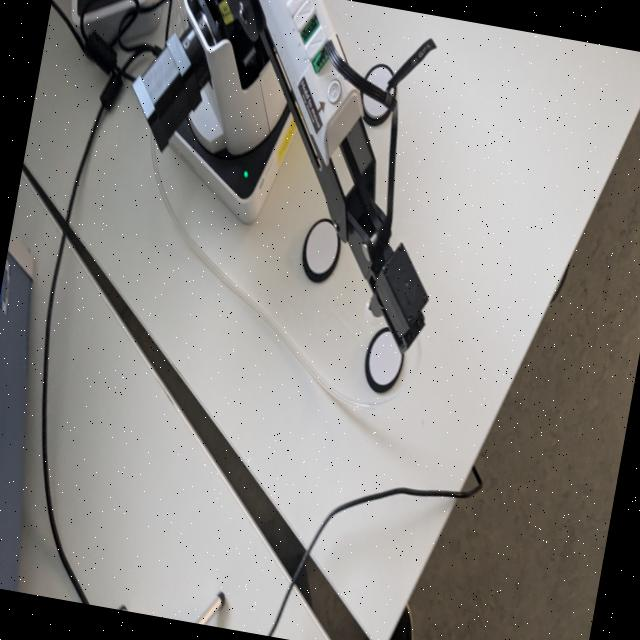Robot-end-effector-HF8z: (352, 228, 444, 362)
